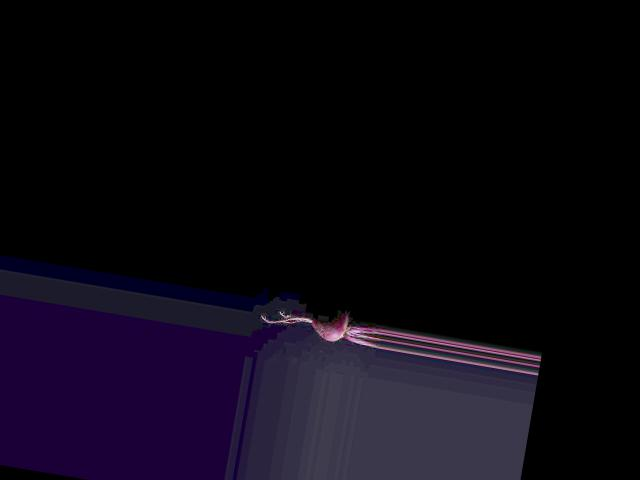beet: (258, 297, 384, 351)
